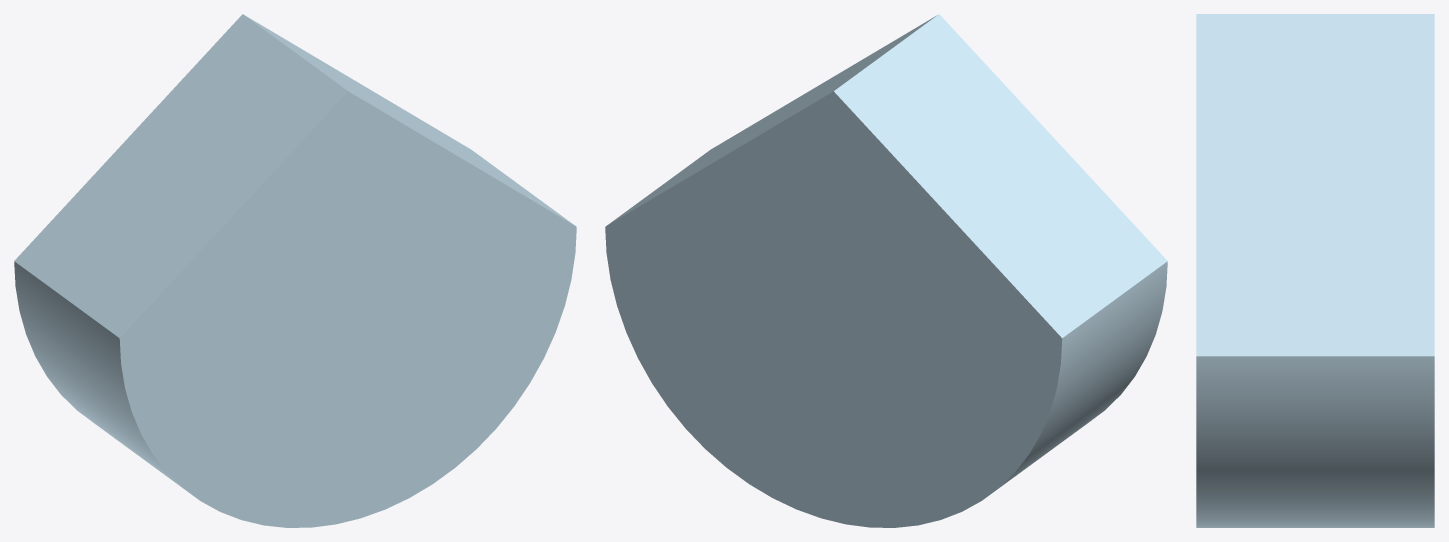
Rendered from enemyfov.gltf.
3 renders of one model, left to right at view 1: azimuth 30°, elevation 25°; view 2: azimuth 150°, elevation 25°; view 3: azimuth 270°, elevation 25°, orthographic. The views are drawn at different scales.
Parts seen in each view (by area): view 1: Part 1; view 2: Part 1; view 3: Part 1.
Part boxes in pixels (x1,y1,x2,y2): Part 1: (14,14,576,527); Part 1: (605,14,1167,527); Part 1: (1196,14,1434,527).
Size of the model in its own units: 0.127 by 0.1142 by 0.0508.
